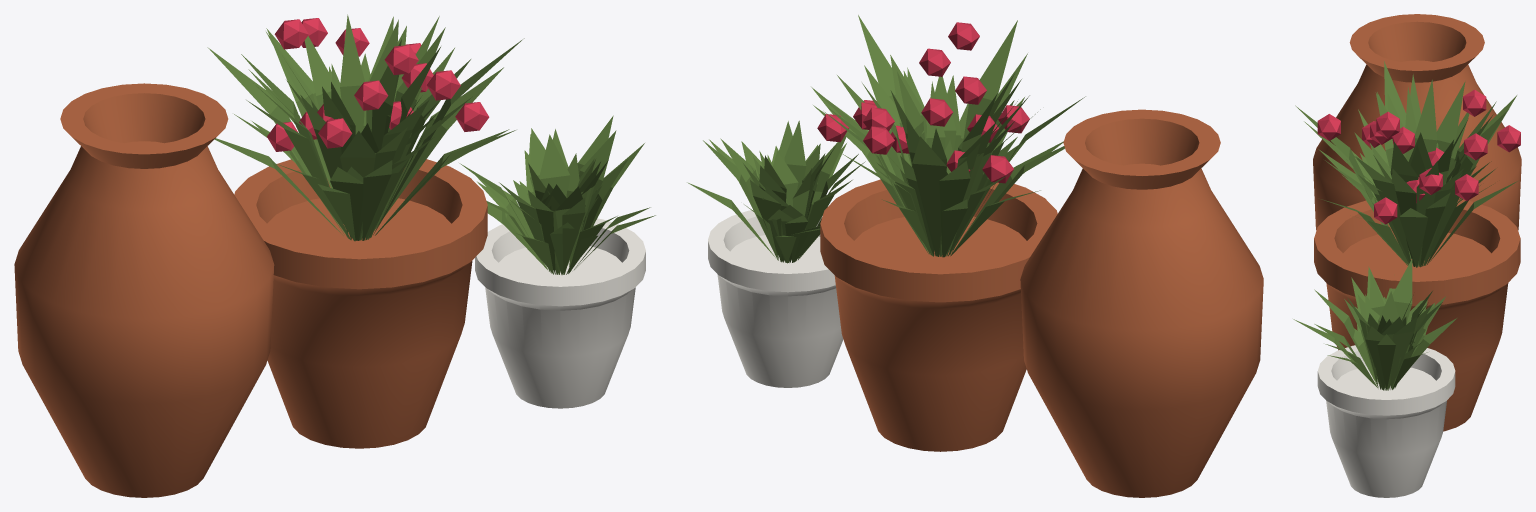
The model's file is pots.glb.
The picture shows the model from 3 angles, left to right: view 1: azimuth 30°, elevation 25°; view 2: azimuth 150°, elevation 25°; view 3: azimuth 270°, elevation 25°; orthographic projection. The views are drawn at different scales.
Parts seen in each view (by area): view 1: terracotta18, terracotta0, leaf1, white16, leaf17, bloom3, bloom8, bloom9, bloom13, bloom5, bloom10; view 2: terracotta18, terracotta0, leaf1, white16, leaf17, bloom4, bloom9, bloom13, bloom8, bloom5, bloom6; view 3: terracotta0, terracotta18, leaf1, white16, leaf17, bloom4, bloom7, bloom12, bloom5, bloom9, bloom10, bloom13 (+2 smaller).
Part boxes in pixels (<box>): terracotta18: <box>14,83,274,497</box>; terracotta0: <box>234,159,487,448</box>; leaf1: <box>207,14,524,241</box>; white16: <box>475,218,645,408</box>; leaf17: <box>459,115,655,274</box>; bloom3: <box>318,118,352,148</box>; bloom8: <box>354,80,388,110</box>; bloom9: <box>274,19,308,49</box>; bloom13: <box>426,70,460,100</box>; bloom5: <box>384,45,418,75</box>; bloom10: <box>455,102,489,131</box>; terracotta18: <box>1020,109,1263,497</box>; terracotta0: <box>820,179,1057,451</box>; leaf1: <box>811,15,1085,257</box>; white16: <box>708,210,843,387</box>; leaf17: <box>687,120,865,263</box>; bloom4: <box>863,126,894,154</box>; bloom9: <box>921,98,953,126</box>; bloom13: <box>948,22,979,50</box>; bloom8: <box>955,76,986,104</box>; bloom5: <box>919,48,950,76</box>; bloom6: <box>982,155,1013,183</box>; terracotta0: <box>1314,199,1520,431</box>; terracotta18: <box>1313,14,1521,230</box>; leaf1: <box>1295,61,1517,267</box>; white16: <box>1317,345,1455,497</box>; leaf17: <box>1293,259,1456,390</box>; bloom4: <box>1497,125,1520,152</box>; bloom7: <box>1455,174,1478,201</box>; bloom12: <box>1464,133,1487,160</box>; bloom5: <box>1376,111,1399,138</box>; bloom9: <box>1463,89,1486,116</box>; bloom10: <box>1374,197,1397,224</box>; bloom13: <box>1317,114,1340,140</box>.
Bounding box in the file's own units: 1.8 × 1.1 × 0.7473.
